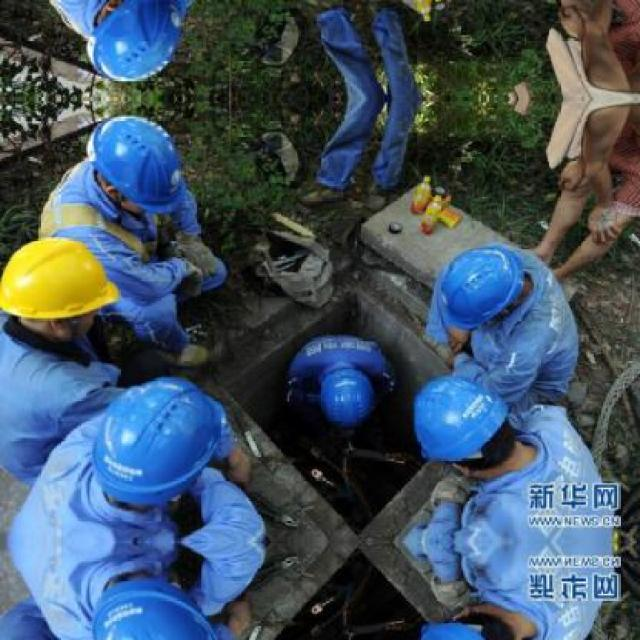helmet: (86, 375, 231, 514), (5, 230, 114, 352), (406, 370, 517, 476), (81, 111, 187, 218), (427, 245, 542, 337), (86, 568, 232, 638), (80, 0, 188, 83), (406, 604, 519, 638), (312, 366, 380, 422)
